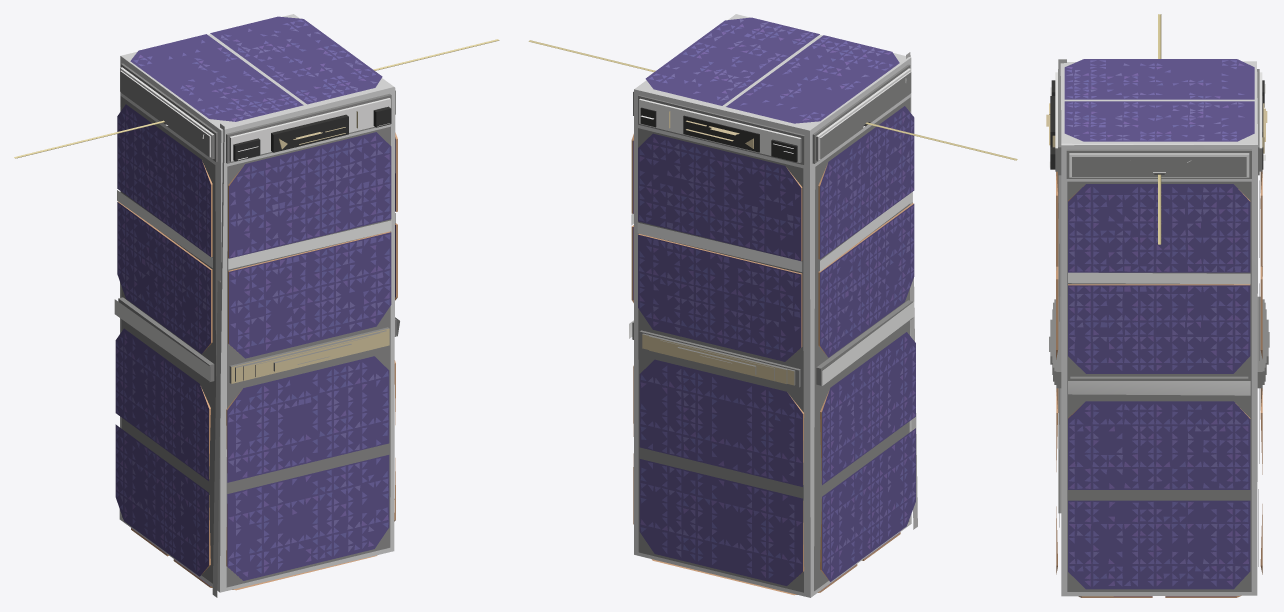
3 renders of one model, left to right at view 1: azimuth 30°, elevation 25°; view 2: azimuth 150°, elevation 25°; view 3: azimuth 270°, elevation 25°, orthographic. The views are drawn at different scales.
Visible parts, largest first — view 1: Layer_0; view 2: Layer_0; view 3: Layer_0.
Part boxes in pixels (x1=…): Layer_0: x1=14, y1=14, x2=499, y2=597; Layer_0: x1=528, y1=14, x2=1017, y2=597; Layer_0: x1=1046, y1=14, x2=1269, y2=597.
Bounding box in the file's own units: 5.39 × 4.99 × 2.21.
